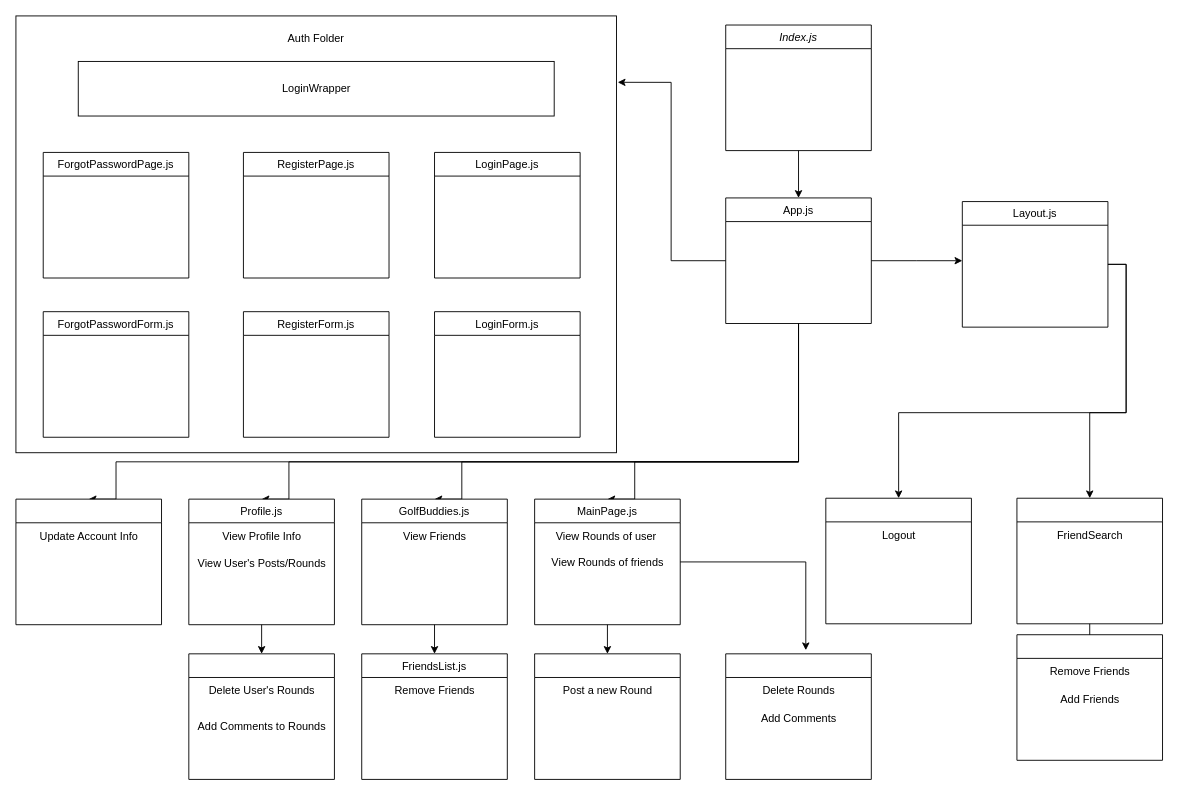
The diagram is 1178 pixels wide and 795 high, and some of its shapes have lost their labels. Here are the shapes that lost their labels. From the top down, the box of each, then its label:
(15, 498, 162, 625): MyAccount.js
(825, 497, 971, 624): LefSidebar.js
(1016, 497, 1163, 624): RightSideBar.js
(188, 653, 334, 779): Rounds.js
(534, 653, 680, 779): AddRound.js
(725, 653, 871, 779): RoundsForMain.js
(1016, 634, 1163, 760): FriendSearch.js
